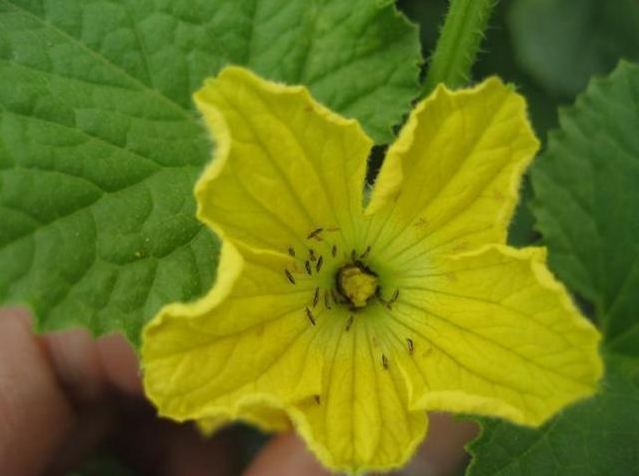thrips: (386, 284, 400, 304), (282, 268, 297, 285), (305, 308, 318, 326), (343, 314, 355, 332), (305, 226, 321, 239), (311, 286, 320, 309), (379, 297, 392, 312), (380, 353, 392, 369), (328, 244, 340, 259), (405, 337, 415, 354), (304, 261, 313, 279), (323, 293, 332, 311), (315, 255, 324, 272), (359, 246, 370, 258), (350, 247, 357, 263)
